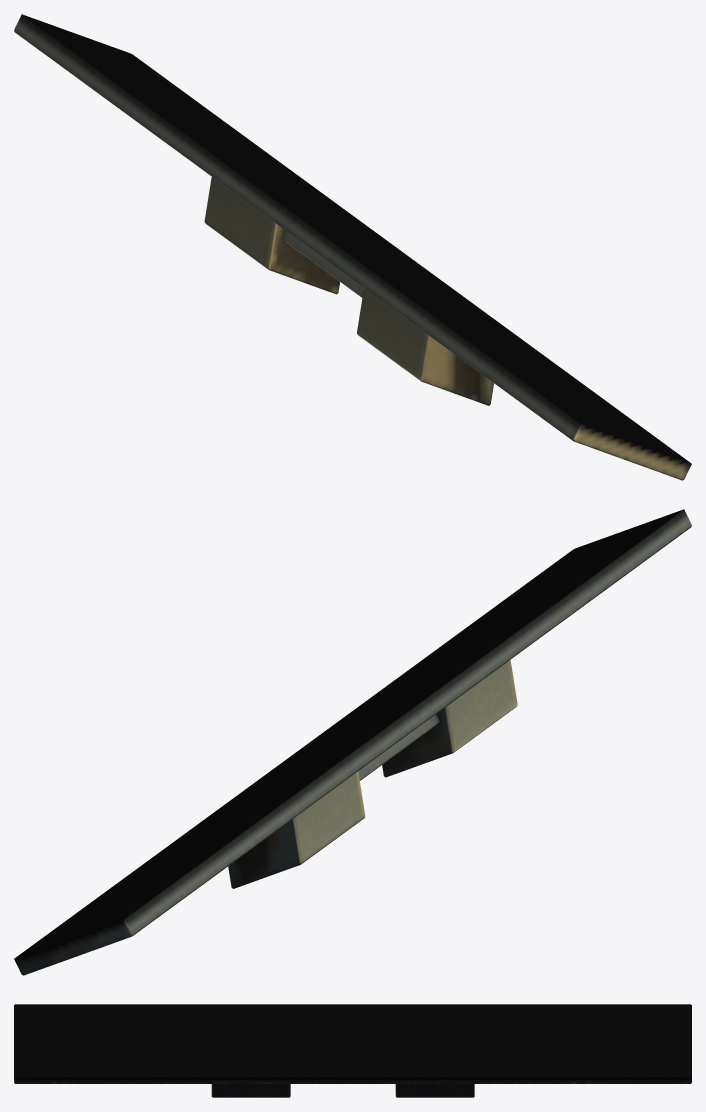
Rendered from Solar_Wirings.glb.
3 views of the same model, one above another, from view 1: azimuth 30°, elevation 25°; view 2: azimuth 150°, elevation 25°; view 3: azimuth 270°, elevation 25° (orthographic). The views are drawn at different scales.
Parts seen in each view (by area): view 1: Solar_Wiring3; view 2: Solar_Wiring3; view 3: Solar_Wiring3.
Part boxes in pixels (x1=…): Solar_Wiring3: x1=14, y1=14, x2=691, y2=480; Solar_Wiring3: x1=14, y1=509, x2=691, y2=975; Solar_Wiring3: x1=14, y1=1004, x2=691, y2=1097.
Bounding box in the file's own units: 0.1522 × 0.1461 × 1.25.
1 material, 1 textured.
